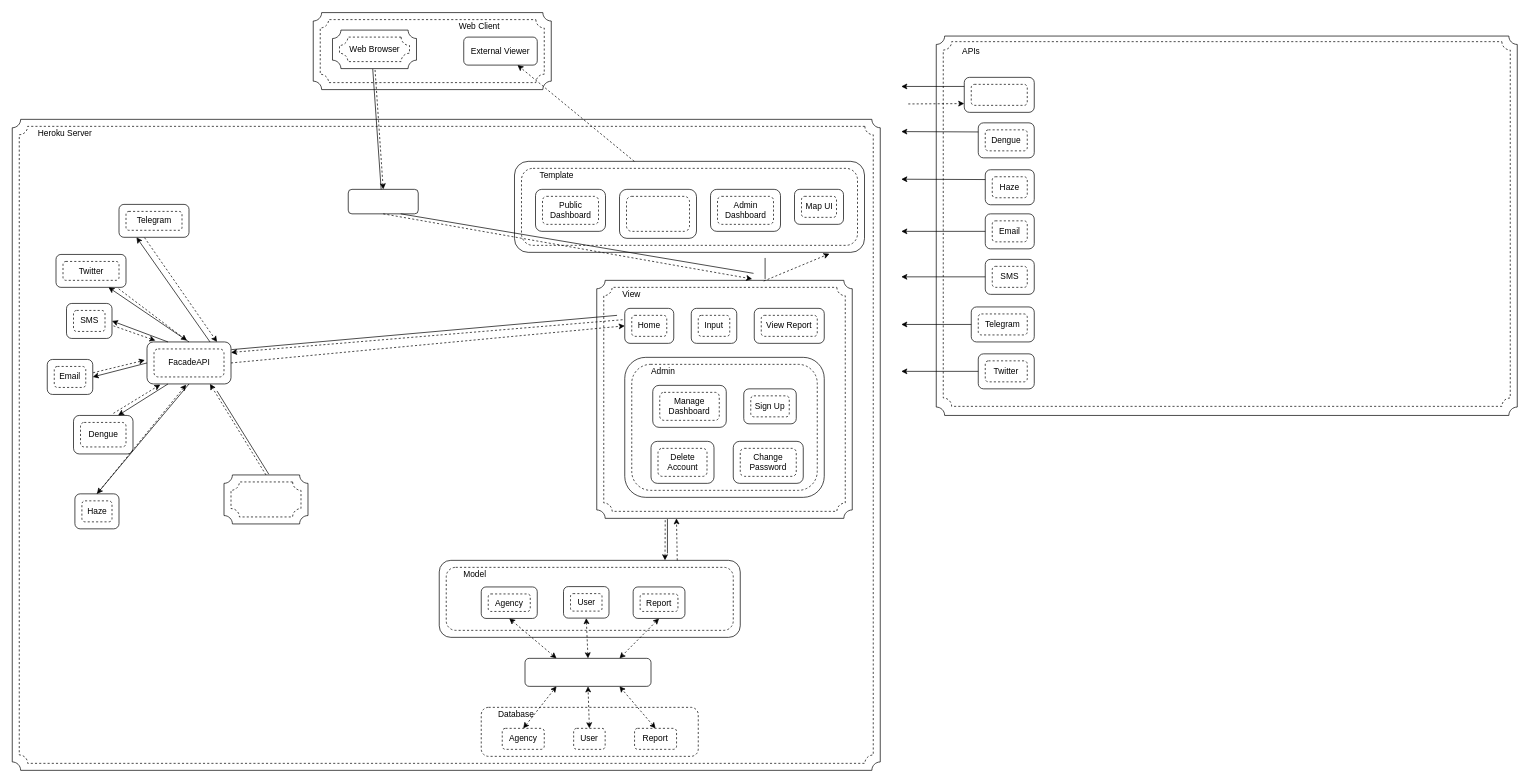
Some shapes in this 1530 by 783 pixel diagram are drawn without their labels. The shapes that lost their labels are listed below. From the top down, each one's centre as x and y in pixels, then its label:
At point 999,94: "CDShelters".
At point 383,201: "URL Dispatcher".
At point 658,213: "Call Centre Operator Dashboard".
At point 265,499: "Scheduler".
At point 587,672: "Object-Relational Mapping".
